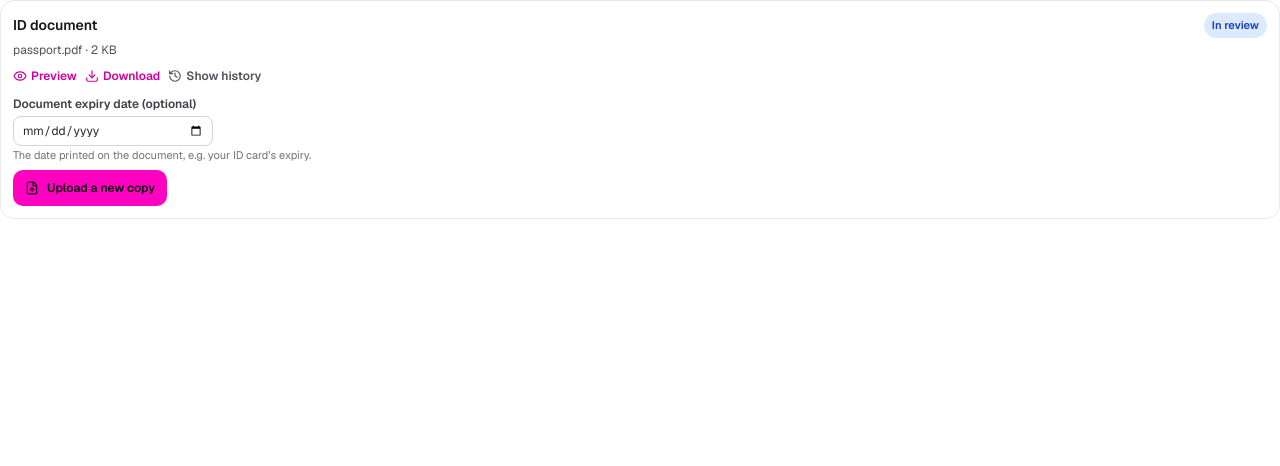
Scenario: history — the rejected version stays reachable › toggles between "Show history" and "Close history" and loads the chain
Step 1. Click the button "Show history" → [215, 76], box [168,68,261,84]
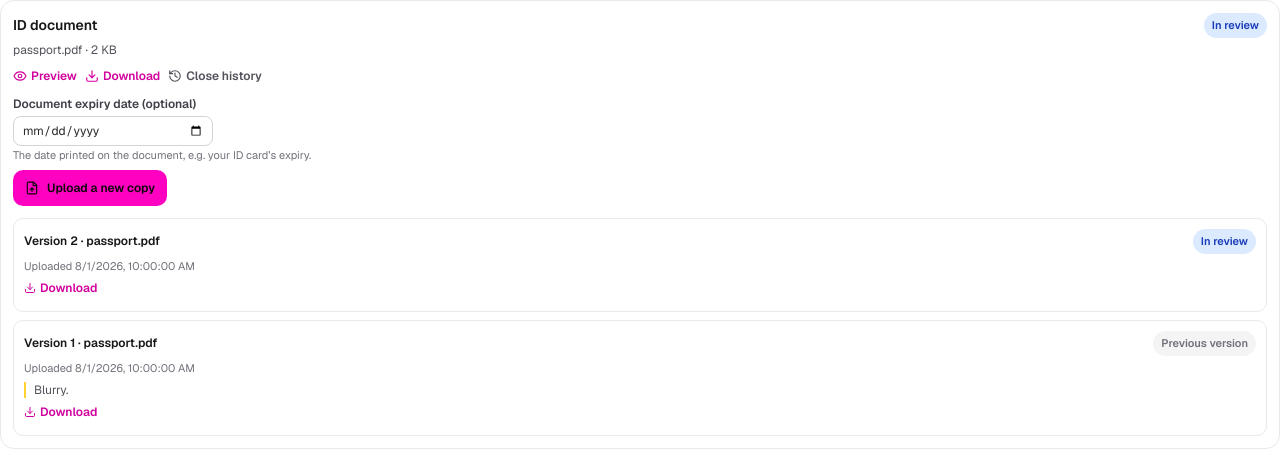
expect the button "Close history" is shown: met
expect the text "Blurry." is shown: met, box [24,382,1256,398]
Step 2. Click the button "Close history" → [215, 76], box [168,68,262,84]
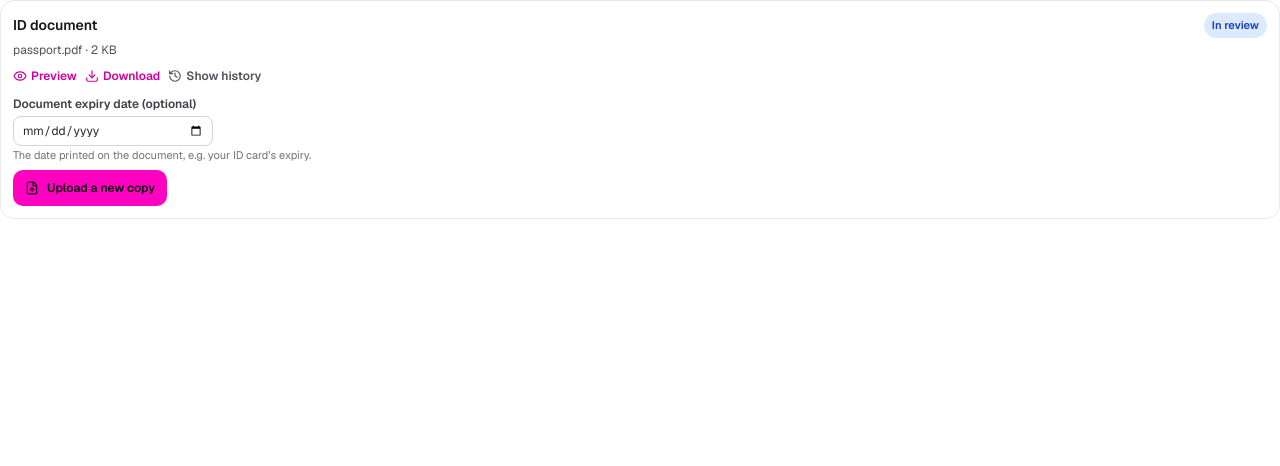
expect the button "Show history" is shown: met, box [168,68,261,84]
